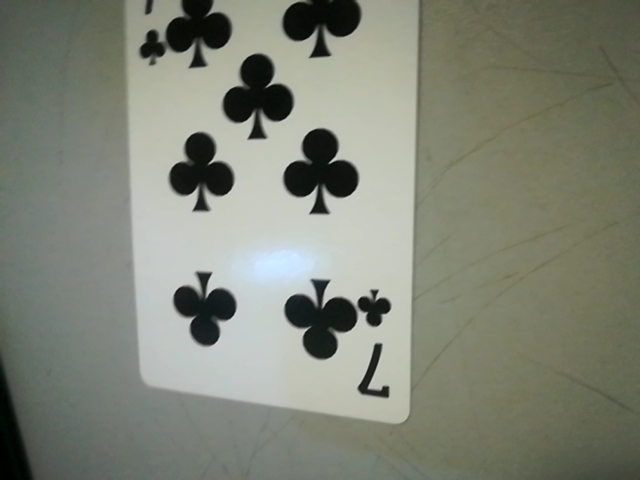mh 7: (349, 286, 406, 413)
